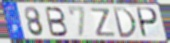7: (66, 6, 89, 40)
8: (24, 6, 45, 38)
B: (44, 6, 70, 38)
D: (111, 7, 138, 40)
P: (136, 6, 160, 39)
Z: (89, 7, 117, 38)
